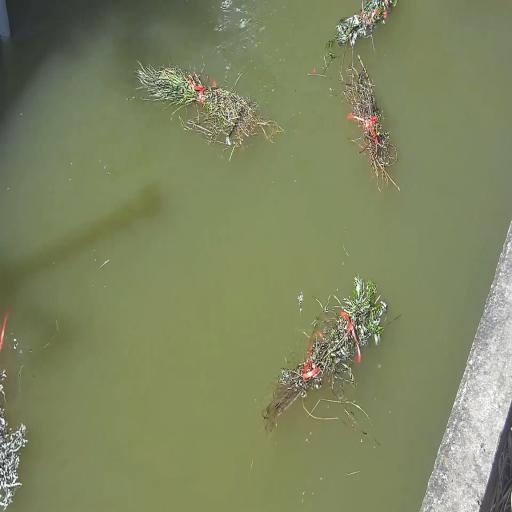twig: (266, 272, 394, 440), (138, 58, 282, 160), (341, 52, 400, 194), (1, 311, 58, 389), (0, 375, 30, 512), (330, 1, 399, 55)
